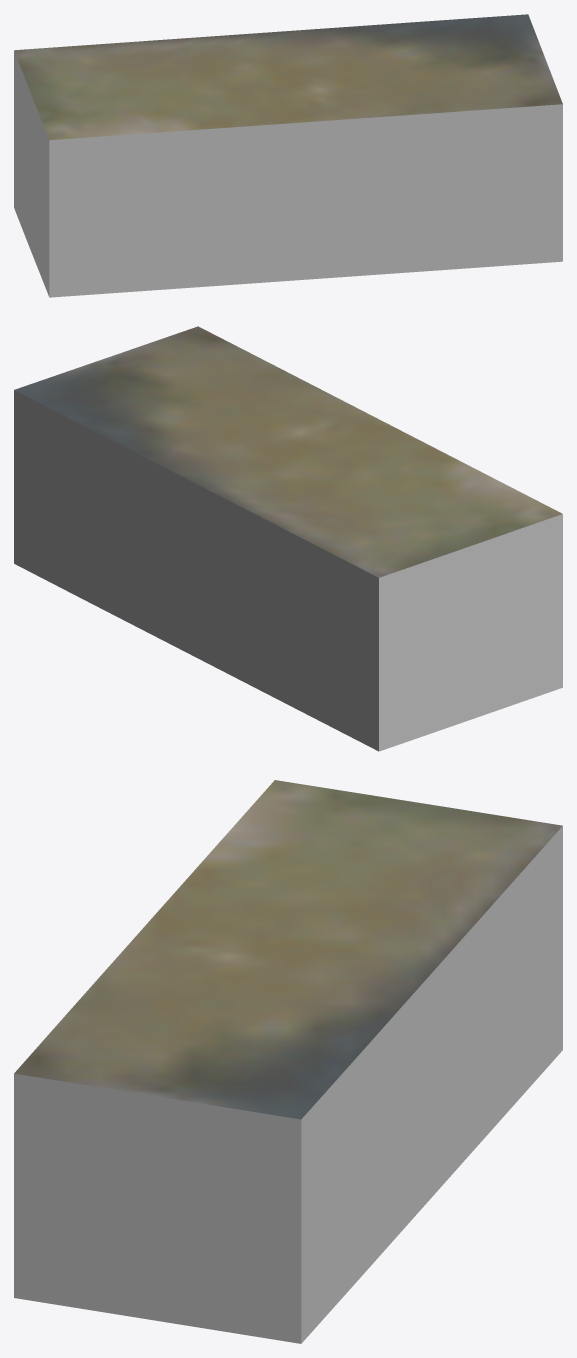
Rendered from DEBW_0010007Txg3.gltf.
3 views of the same model, one above another, from view 1: azimuth 30°, elevation 25°; view 2: azimuth 150°, elevation 25°; view 3: azimuth 270°, elevation 25° (orthographic). The views are drawn at different scales.
Visible parts, largest first — view 1: Z_UP; view 2: Z_UP; view 3: Z_UP.
Part boxes in pixels (x1=…): Z_UP: x1=14, y1=14, x2=562, y2=297; Z_UP: x1=14, y1=326, x2=562, y2=751; Z_UP: x1=14, y1=780, x2=562, y2=1343.
Bounding box in the file's own units: 10.04 × 3.09 × 6.86.
2 materials, 1 textured.
